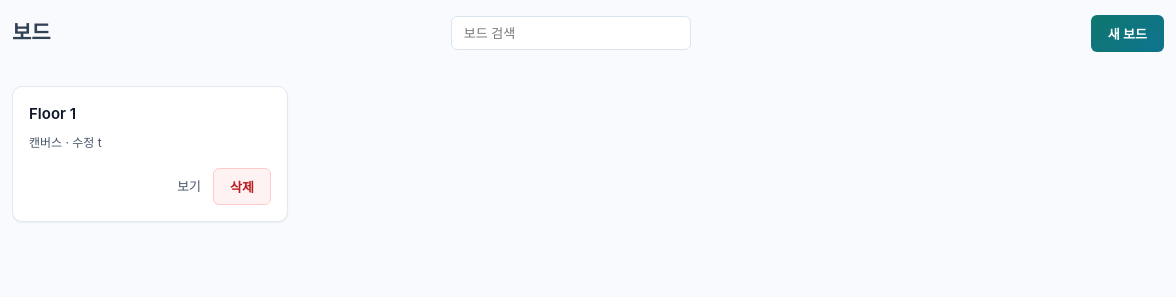
BoardsListPage › shows an error when deleting a board fails
Expected: the link "Floor 1" is shown, left=29, top=104, right=76, bottom=123
Click the button with aria-label "Floor 1 삭제" at (242, 186), box left=213, top=168, right=271, bottom=205
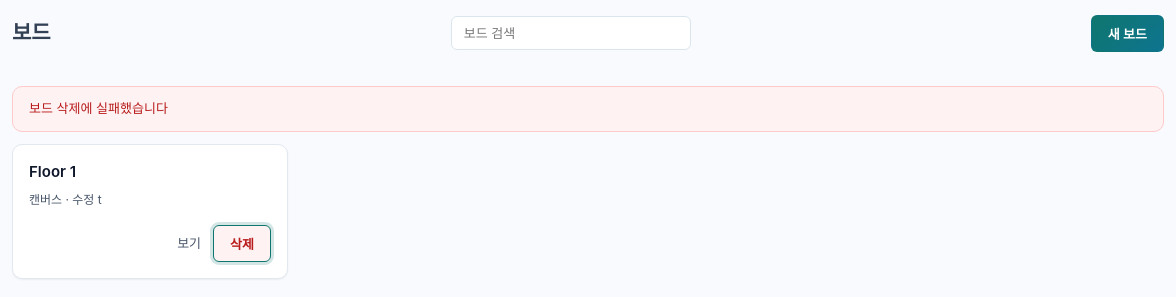
Expected: the link "Floor 1" is shown, left=29, top=162, right=76, bottom=181
Now the message reads "보드 삭제에 실패했습니다", box left=29, top=100, right=168, bottom=116
